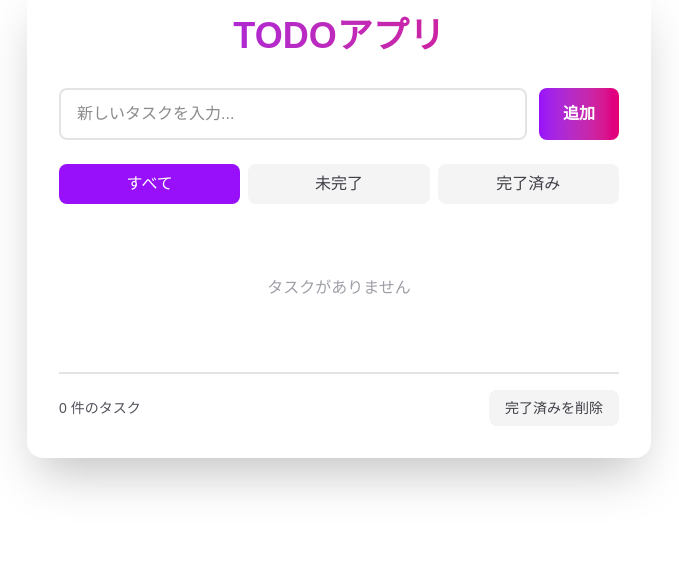
Test case: TodoList › タスクの追加 › 複数のタスクを追加できること
The width and height of the screenshot is (679, 587).
Step 1. Type "買い物" into the field with placeholder "新しいタスクを入力..." → {"x": 293, "y": 114}, box [59,88,527,140]
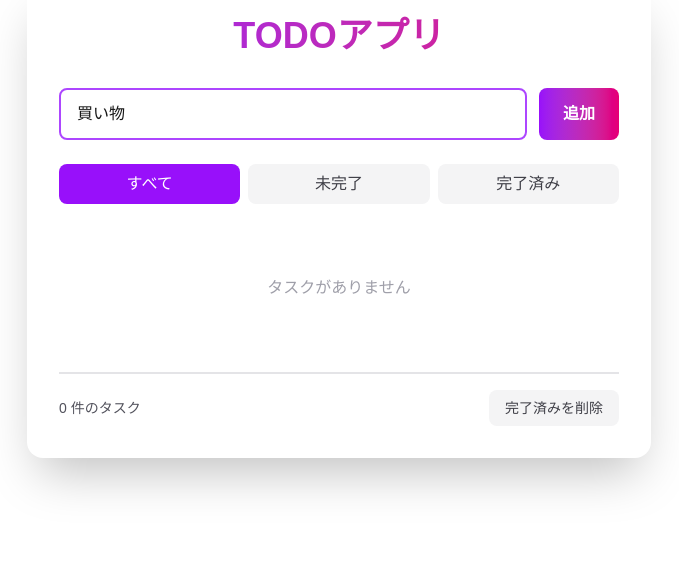
Step 2. Click the button "追加" → {"x": 579, "y": 114}, box [539,88,619,140]
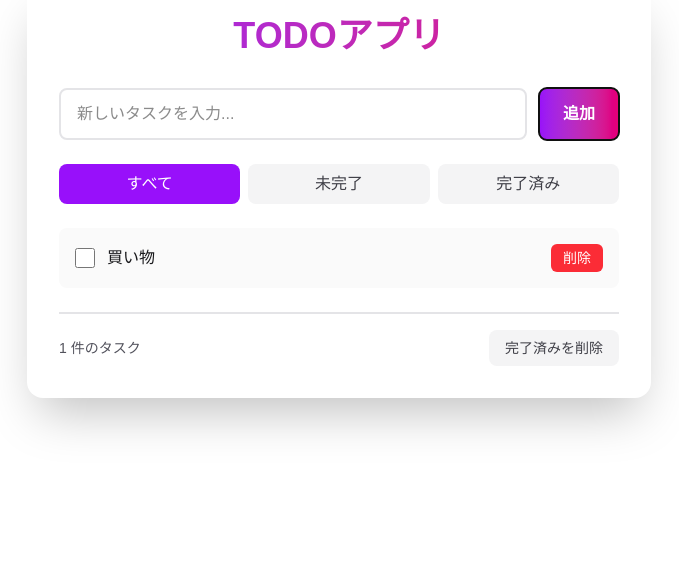
Step 3. Type "料理" into the field with placeholder "新しいタスクを入力..." → {"x": 293, "y": 114}, box [59,88,527,140]
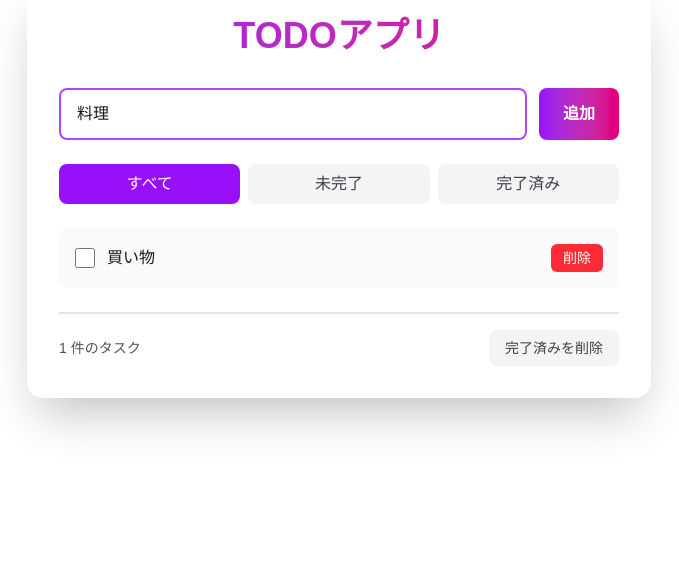
Step 4. Click the button "追加" → {"x": 579, "y": 114}, box [539,88,619,140]
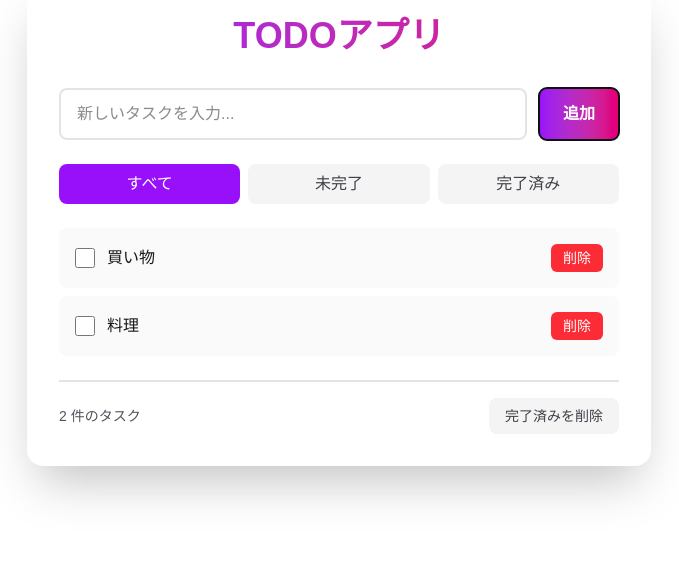
Step 5. Type "洗濯" into the field with placeholder "新しいタスクを入力..." → {"x": 293, "y": 114}, box [59,88,527,140]
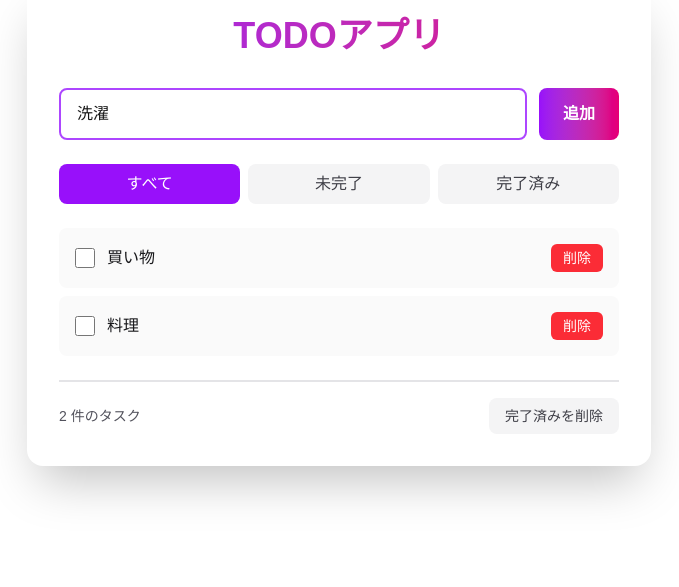
Step 6. Click the button "追加" → {"x": 579, "y": 114}, box [539,88,619,140]
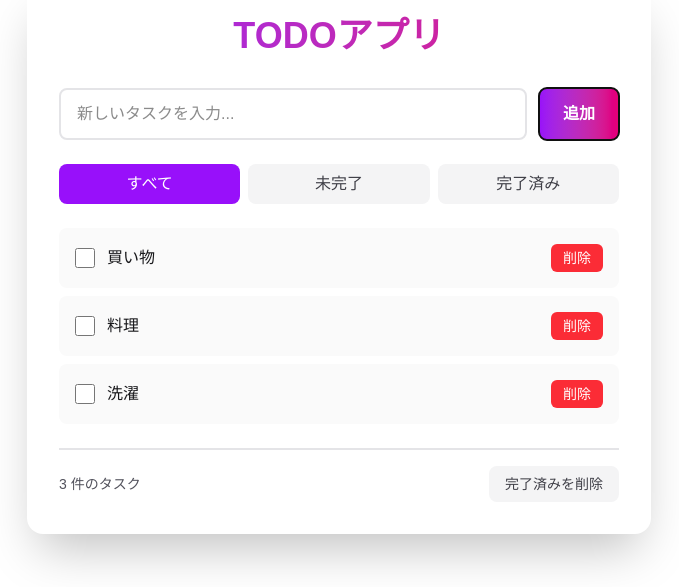
Now the text "買い物" is shown, box [107,249,155,266]
Now the text "料理" is shown, box [107,317,139,334]
Now the text "洗濯" is shown, box [107,385,139,402]
